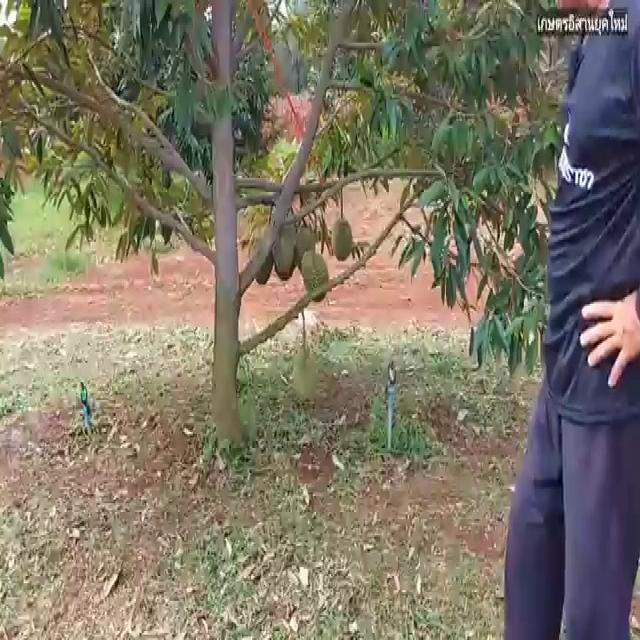durian: (268, 215, 300, 288), (299, 247, 332, 307), (250, 222, 277, 284), (329, 213, 356, 266), (292, 219, 317, 273)
